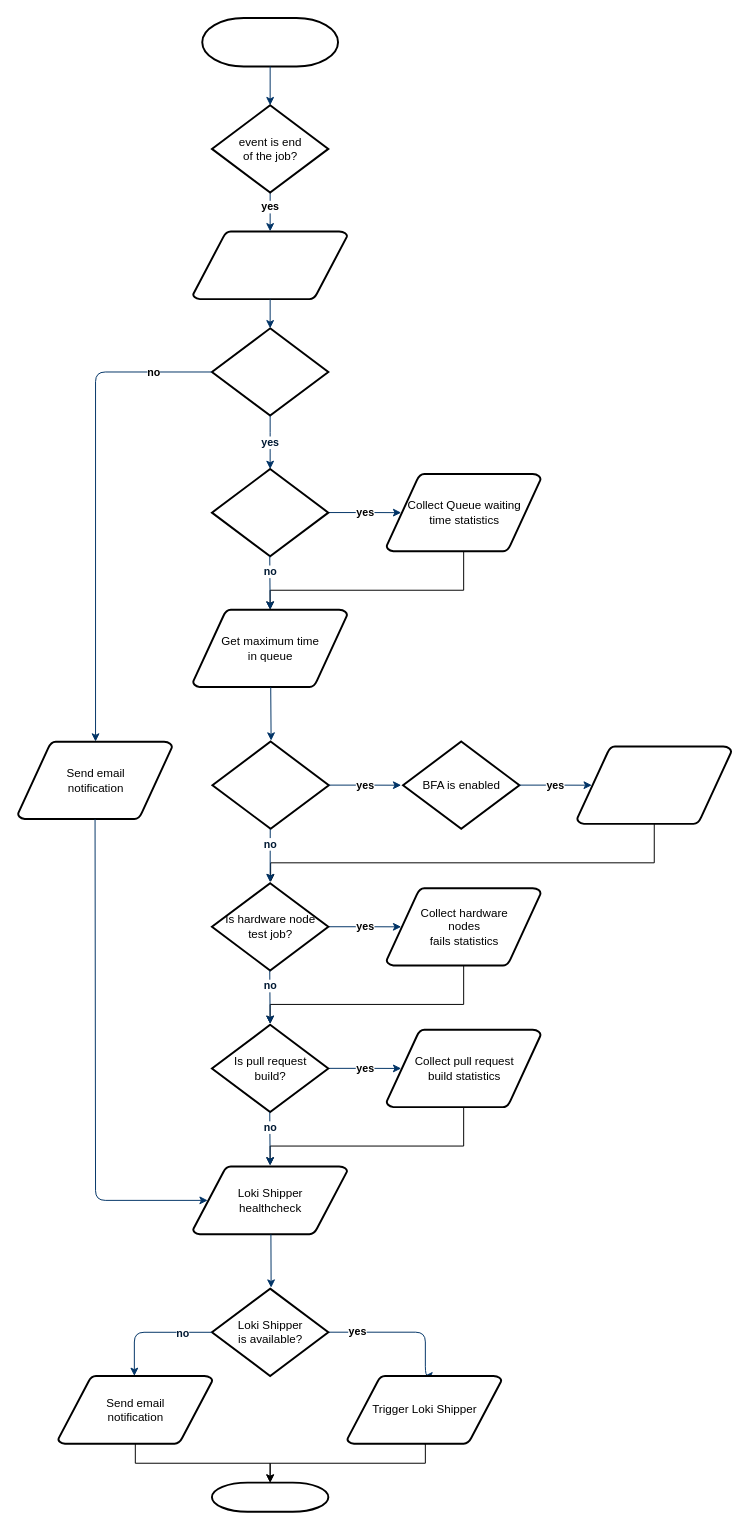
This 749x1529 diagram has some shape labels left out. Here are the shapes that lost their labels. From the top down, the box of each, then its label:
(201, 16, 339, 67): Groovy Event Listener event
(192, 230, 348, 300): InfluxDB healthcheck
(210, 327, 329, 416): InfluxDB is available?
(210, 468, 329, 557): Job name starts with VAG?
(211, 740, 329, 829): Job has FAILED?
(576, 745, 732, 824): Collect build failure analytics
(210, 1481, 329, 1512): end
